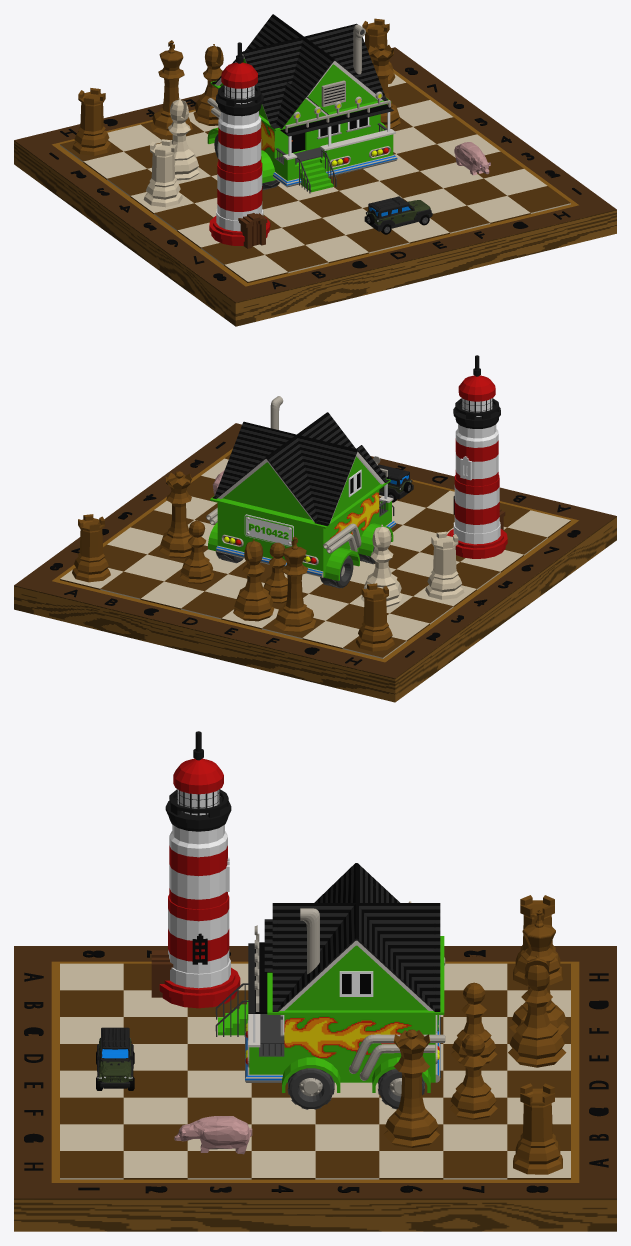
3 views of the same model, one above another, from view 1: azimuth 30°, elevation 25°; view 2: azimuth 150°, elevation 25°; view 3: azimuth 270°, elevation 25° (orthographic). The views are drawn at different scales.
Visible parts, largest first — view 1: Cube.002, Cube.1474, OBJRANDOM_LIGHTHOUSE, VEHICLES_JEEP, ANIMAL_HIPOPOTAMO; view 2: Cube.002, Cube.1474, OBJRANDOM_LIGHTHOUSE, VEHICLES_JEEP; view 3: Cube.002, Cube.1474, OBJRANDOM_LIGHTHOUSE, VEHICLES_JEEP, ANIMAL_HIPOPOTAMO.
Boxes of the visible parts, <box> form: Cube.002: <box>14,18,616,326</box>; Cube.1474: <box>207,14,397,193</box>; OBJRANDOM_LIGHTHOUSE: <box>209,42,270,248</box>; VEHICLES_JEEP: <box>364,196,432,234</box>; ANIMAL_HIPOPOTAMO: <box>454,142,490,175</box>; Cube.002: <box>14,423,616,702</box>; Cube.1474: <box>206,396,396,588</box>; OBJRANDOM_LIGHTHOUSE: <box>446,355,507,558</box>; VEHICLES_JEEP: <box>378,464,413,502</box>; Cube.002: <box>14,895,616,1231</box>; Cube.1474: <box>215,863,445,1109</box>; OBJRANDOM_LIGHTHOUSE: <box>151,731,240,1008</box>; VEHICLES_JEEP: <box>96,1027,134,1090</box>; ANIMAL_HIPOPOTAMO: <box>174,1116,252,1154</box>.
Bounding box in the file's own units: 3981 × 2258 × 4012.
41 materials, 4 textured.
